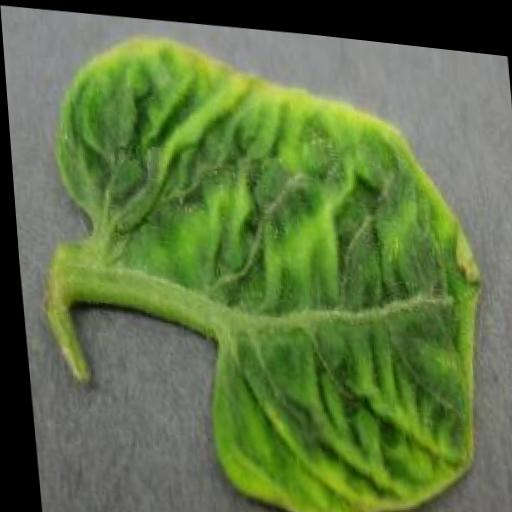Yellow Leaf Curl Virus: (44, 19, 498, 512)
